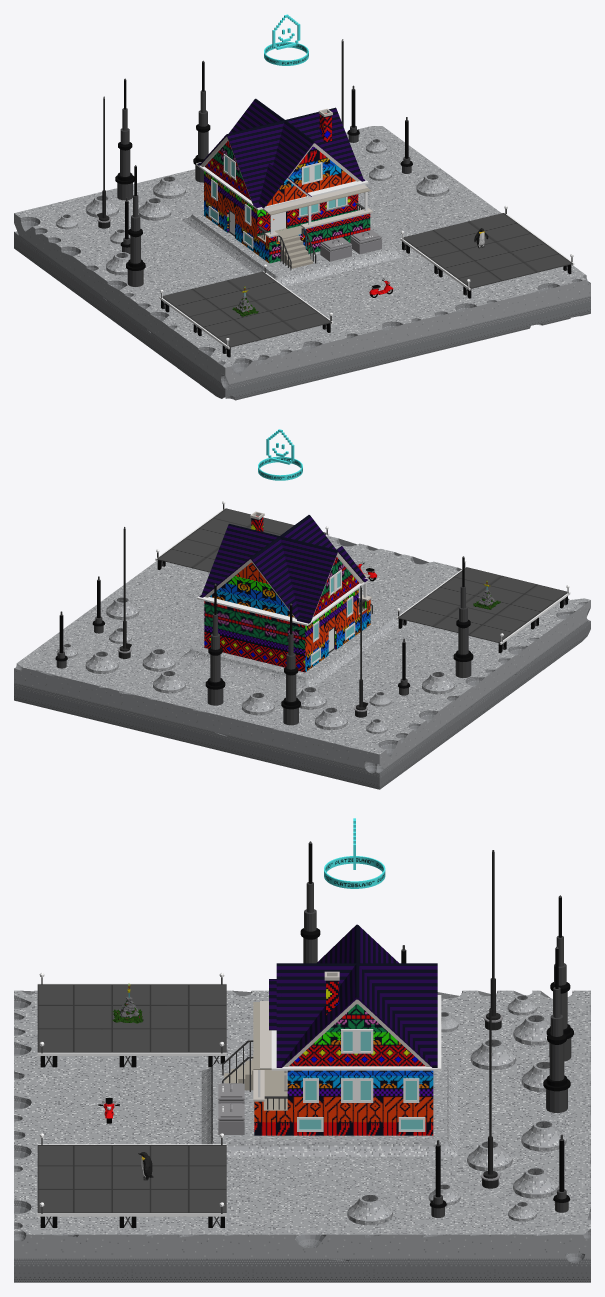
3 renders of one model, top to bottom at view 1: azimuth 30°, elevation 25°; view 2: azimuth 150°, elevation 25°; view 3: azimuth 270°, elevation 25°, orthographic. The views are drawn at different scales.
Visible parts, largest first — view 1: Cube.027, Cube.966, Cube.026, Cube.025, Cube.028, Cylinder.021, Cylinder.020, Cylinder.017, TYPE_PREMIUM, Cube.029, Cube.030, Cylinder.026 (+2 smaller); view 2: Cube.027, Cube.966, Cube.025, Cube.028, Cube.026, Cylinder.017, Cylinder.021, Cylinder.020, TYPE_PREMIUM, Cylinder.030, Cylinder.029, Cylinder.025 (+6 smaller); view 3: Cube.027, Cube.966, Cube.026, Cube.025, Cube.028, Cylinder.017, Cylinder.020, Cylinder.021, TYPE_PREMIUM, Cylinder.033, Cylinder.031, Cylinder.026 (+9 smaller).
Boxes of the visible parts, bbox=[...] form: Cube.027: bbox=[14, 126, 590, 400]; Cube.966: bbox=[196, 98, 372, 269]; Cube.026: bbox=[400, 205, 574, 298]; Cube.025: bbox=[159, 264, 333, 357]; Cube.028: bbox=[182, 211, 403, 286]; Cylinder.021: bbox=[126, 165, 145, 286]; Cylinder.020: bbox=[115, 78, 134, 200]; Cylinder.017: bbox=[193, 60, 210, 182]; TYPE_PREMIUM: bbox=[264, 14, 308, 65]; Cube.029: bbox=[320, 237, 351, 261]; Cube.030: bbox=[350, 230, 381, 254]; Cylinder.026: bbox=[138, 197, 171, 220]; Cube.027: bbox=[14, 536, 590, 789]; Cube.966: bbox=[197, 511, 372, 672]; Cube.025: bbox=[396, 560, 570, 653]; Cube.028: bbox=[181, 610, 398, 688]; Cube.026: bbox=[155, 501, 329, 572]; Cylinder.017: bbox=[205, 583, 225, 705]; Cylinder.021: bbox=[453, 556, 473, 677]; Cylinder.020: bbox=[281, 603, 300, 725]; TYPE_PREMIUM: bbox=[258, 429, 302, 480]; Cylinder.030: bbox=[142, 648, 175, 671]; Cylinder.029: bbox=[153, 670, 185, 693]; Cylinder.025: bbox=[422, 671, 454, 694]; Cube.027: bbox=[14, 990, 590, 1282]; Cube.966: bbox=[222, 924, 441, 1135]; Cube.026: bbox=[37, 1133, 226, 1227]; Cube.025: bbox=[37, 973, 226, 1067]; Cube.028: bbox=[201, 1063, 457, 1156]; Cylinder.017: bbox=[543, 946, 570, 1112]; Cylinder.020: bbox=[546, 895, 573, 1061]; Cylinder.021: bbox=[300, 841, 320, 963]; TYPE_PREMIUM: bbox=[324, 818, 385, 888]; Cylinder.033: bbox=[347, 1194, 392, 1225]; Cylinder.031: bbox=[513, 1167, 558, 1198]; Cylinder.026: bbox=[470, 1038, 516, 1069].
Size of the model in its own units: 4000 by 2726 by 4000.
Materials: 45 (10 with a texture image).
